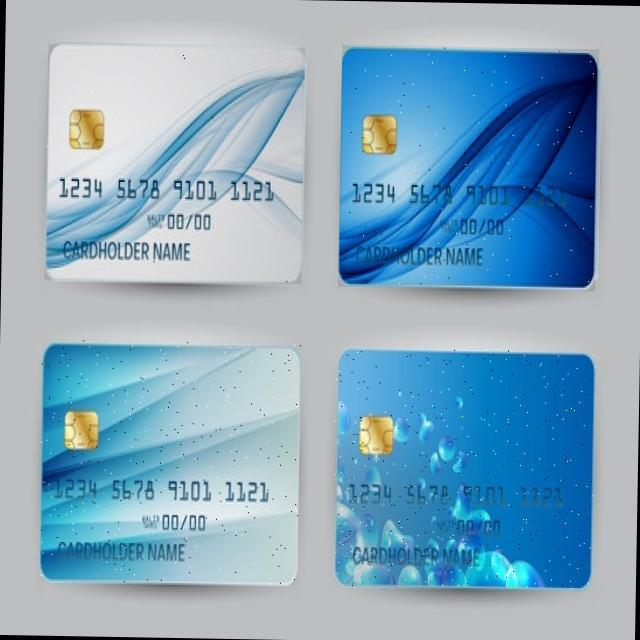payment_card: (39, 342, 301, 586), (337, 45, 599, 289), (44, 41, 305, 285), (339, 349, 596, 591)
